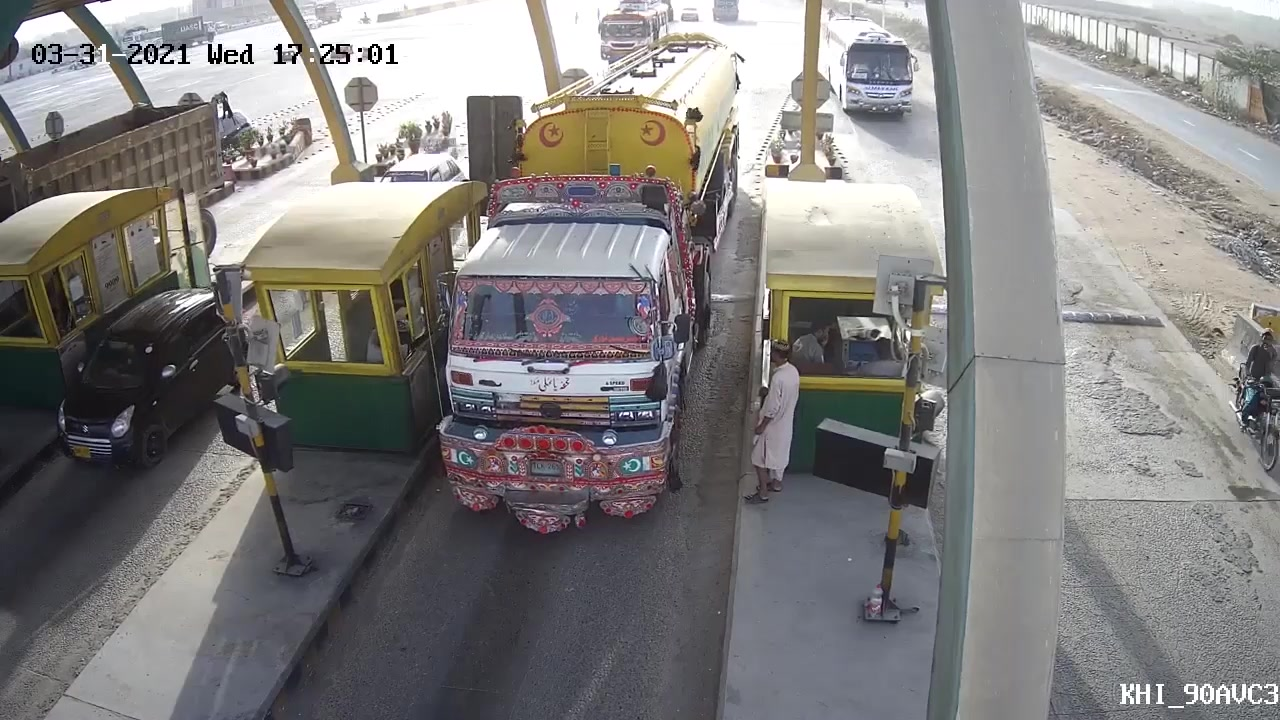F6: (430, 34, 738, 538)
